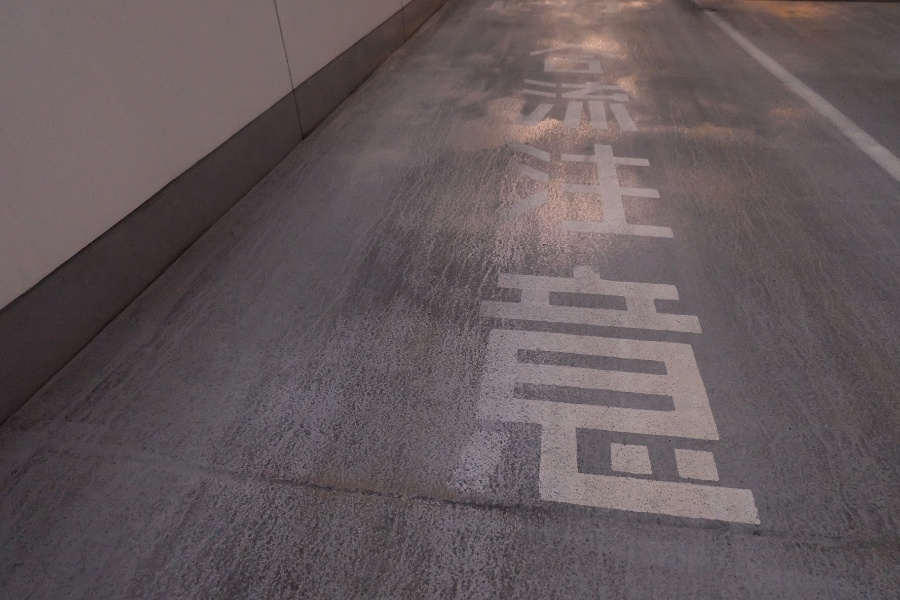text: (529, 39, 544, 531), (545, 39, 560, 531), (561, 39, 576, 531), (577, 39, 592, 531), (593, 39, 608, 531), (609, 39, 624, 531), (625, 39, 640, 531), (641, 39, 656, 531), (657, 39, 672, 531), (673, 39, 688, 531), (689, 39, 704, 531), (705, 39, 720, 531), (721, 39, 736, 531), (737, 39, 752, 531), (753, 39, 765, 531)
